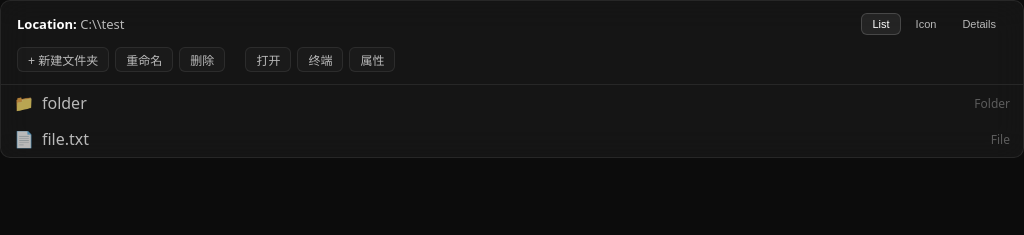
Test: FileBrowser View Modes › switches between views and maintains data-testid containers
expect the list with test id "file-list" is shown: met, box [1, 85, 1023, 157]
Click the button with aria-label "icon view". click: [926, 24]
box: [905, 13, 947, 35]
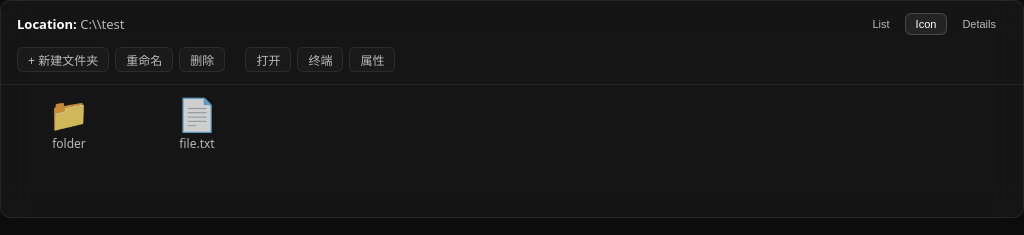
expect the list with test id "file-grid" is shown: met, box [49, 92, 217, 152]
Click the button with aria-label "details view". click: [979, 24]
box: [951, 13, 1007, 35]
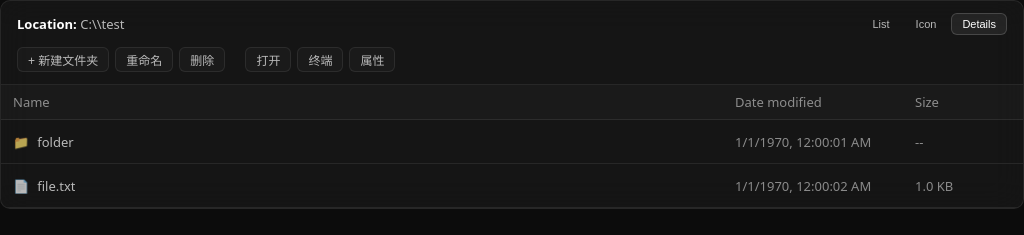
expect the element with test id "details-table" is shown: met, box [1, 85, 1023, 208]
